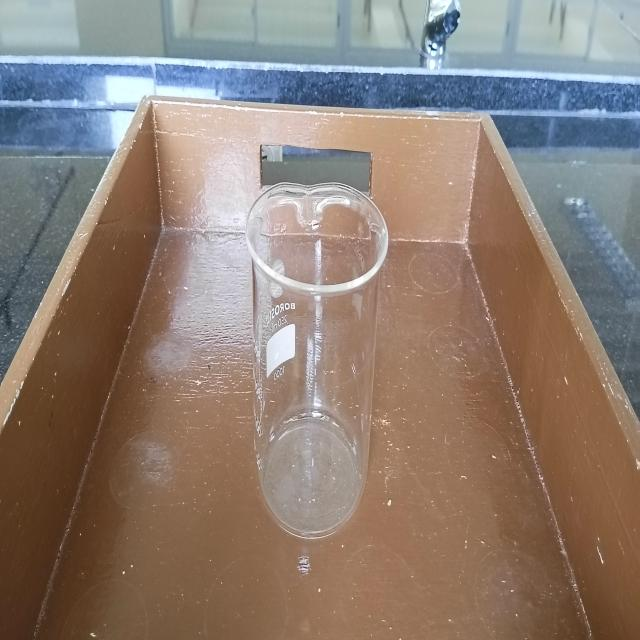beaker: (243, 176, 392, 544)
